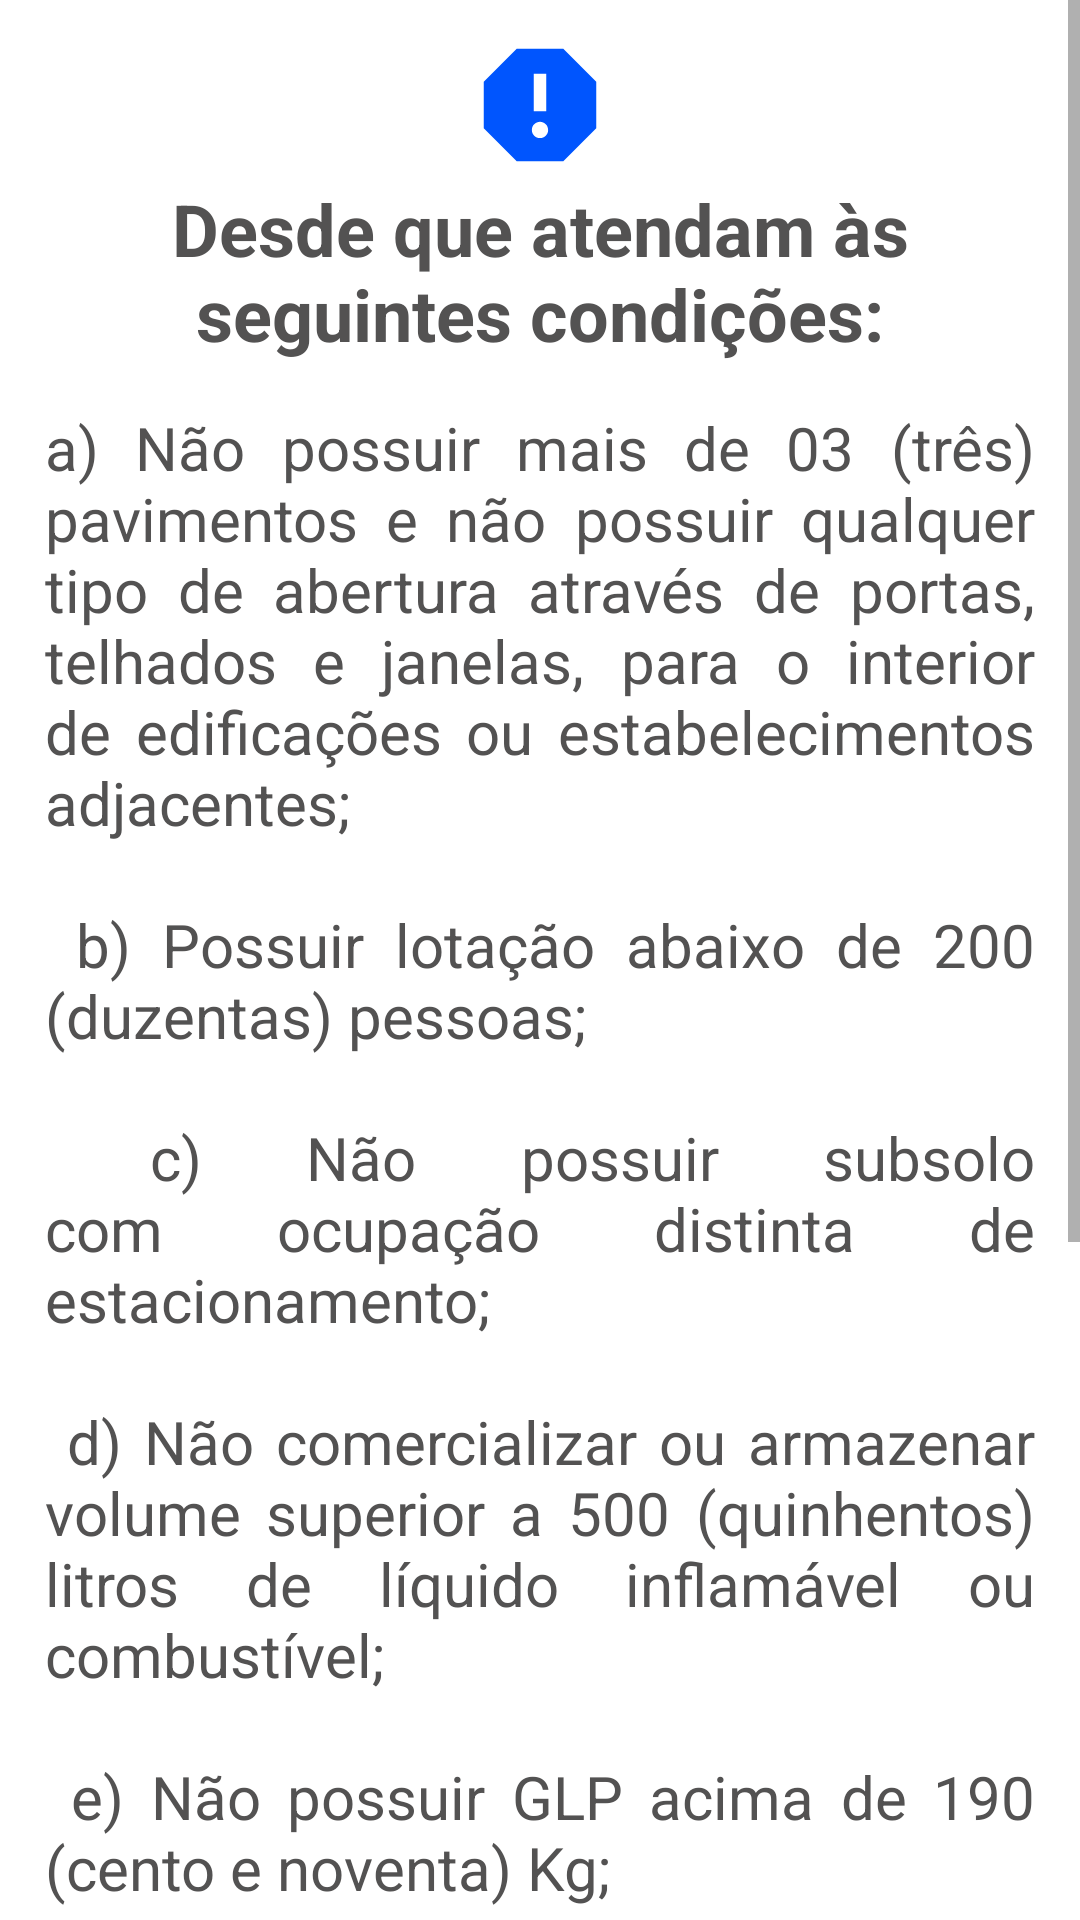

Icon click points for this 1080px×1920px phone screenshot, format (x=x, y=y):
alert: (x=540, y=105)
